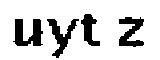t: (80, 12, 101, 49)
u: (8, 16, 43, 50)
y: (44, 14, 79, 60)
z: (114, 15, 145, 49)
